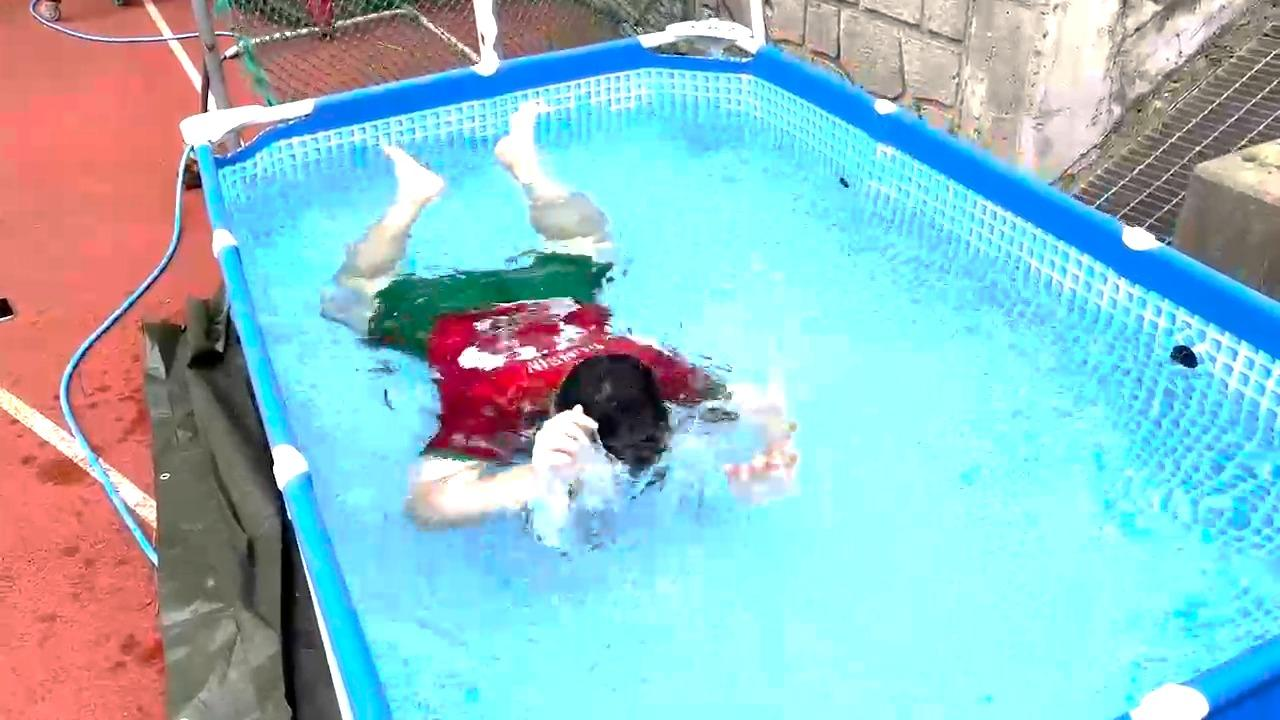Drowning: (293, 57, 852, 560)
